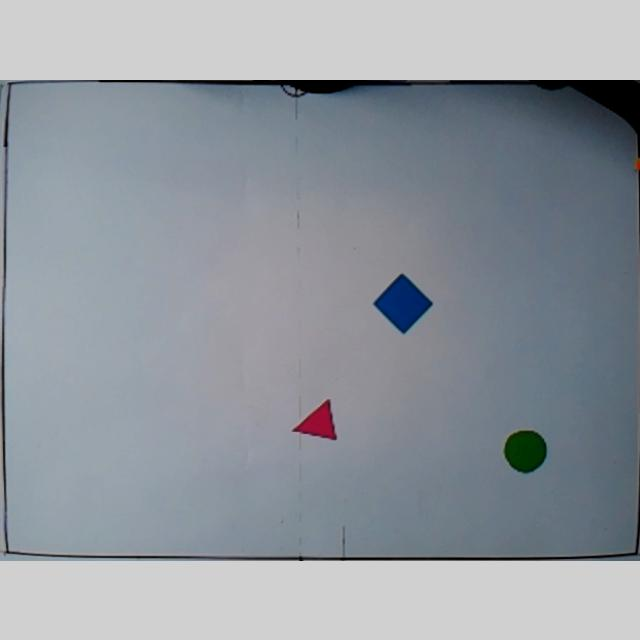blueSquare: (373, 272, 433, 336)
greenCircle: (504, 426, 548, 474)
pinkTriangle: (292, 396, 340, 442)
